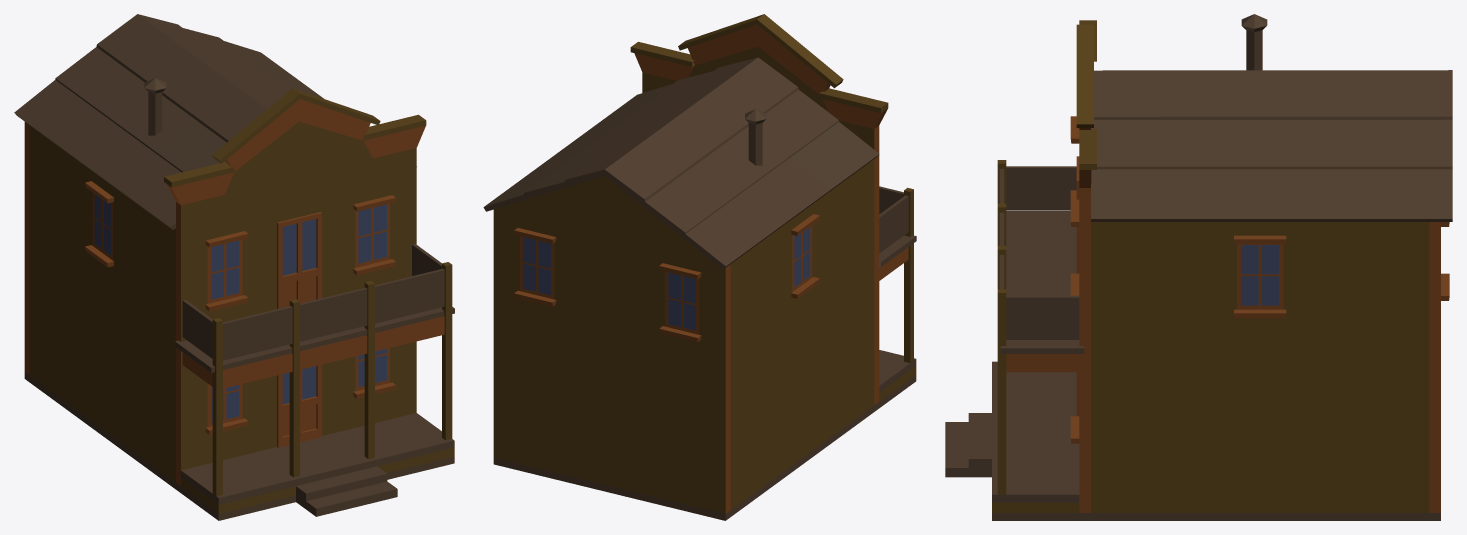
The model's file is house.fbx.
3 views of the same model, side by side, from view 1: azimuth 30°, elevation 25°; view 2: azimuth 150°, elevation 25°; view 3: azimuth 270°, elevation 25° (orthographic). The views are drawn at different scales.
Visible parts, largest first — view 1: hotel-western; view 2: hotel-western; view 3: hotel-western.
Part boxes in pixels (x1=…): hotel-western: x1=14, y1=14, x2=454, y2=520; hotel-western: x1=483, y1=14, x2=916, y2=520; hotel-western: x1=945, y1=14, x2=1452, y2=520.
Size of the model in its own units: 583 by 813 by 870.
